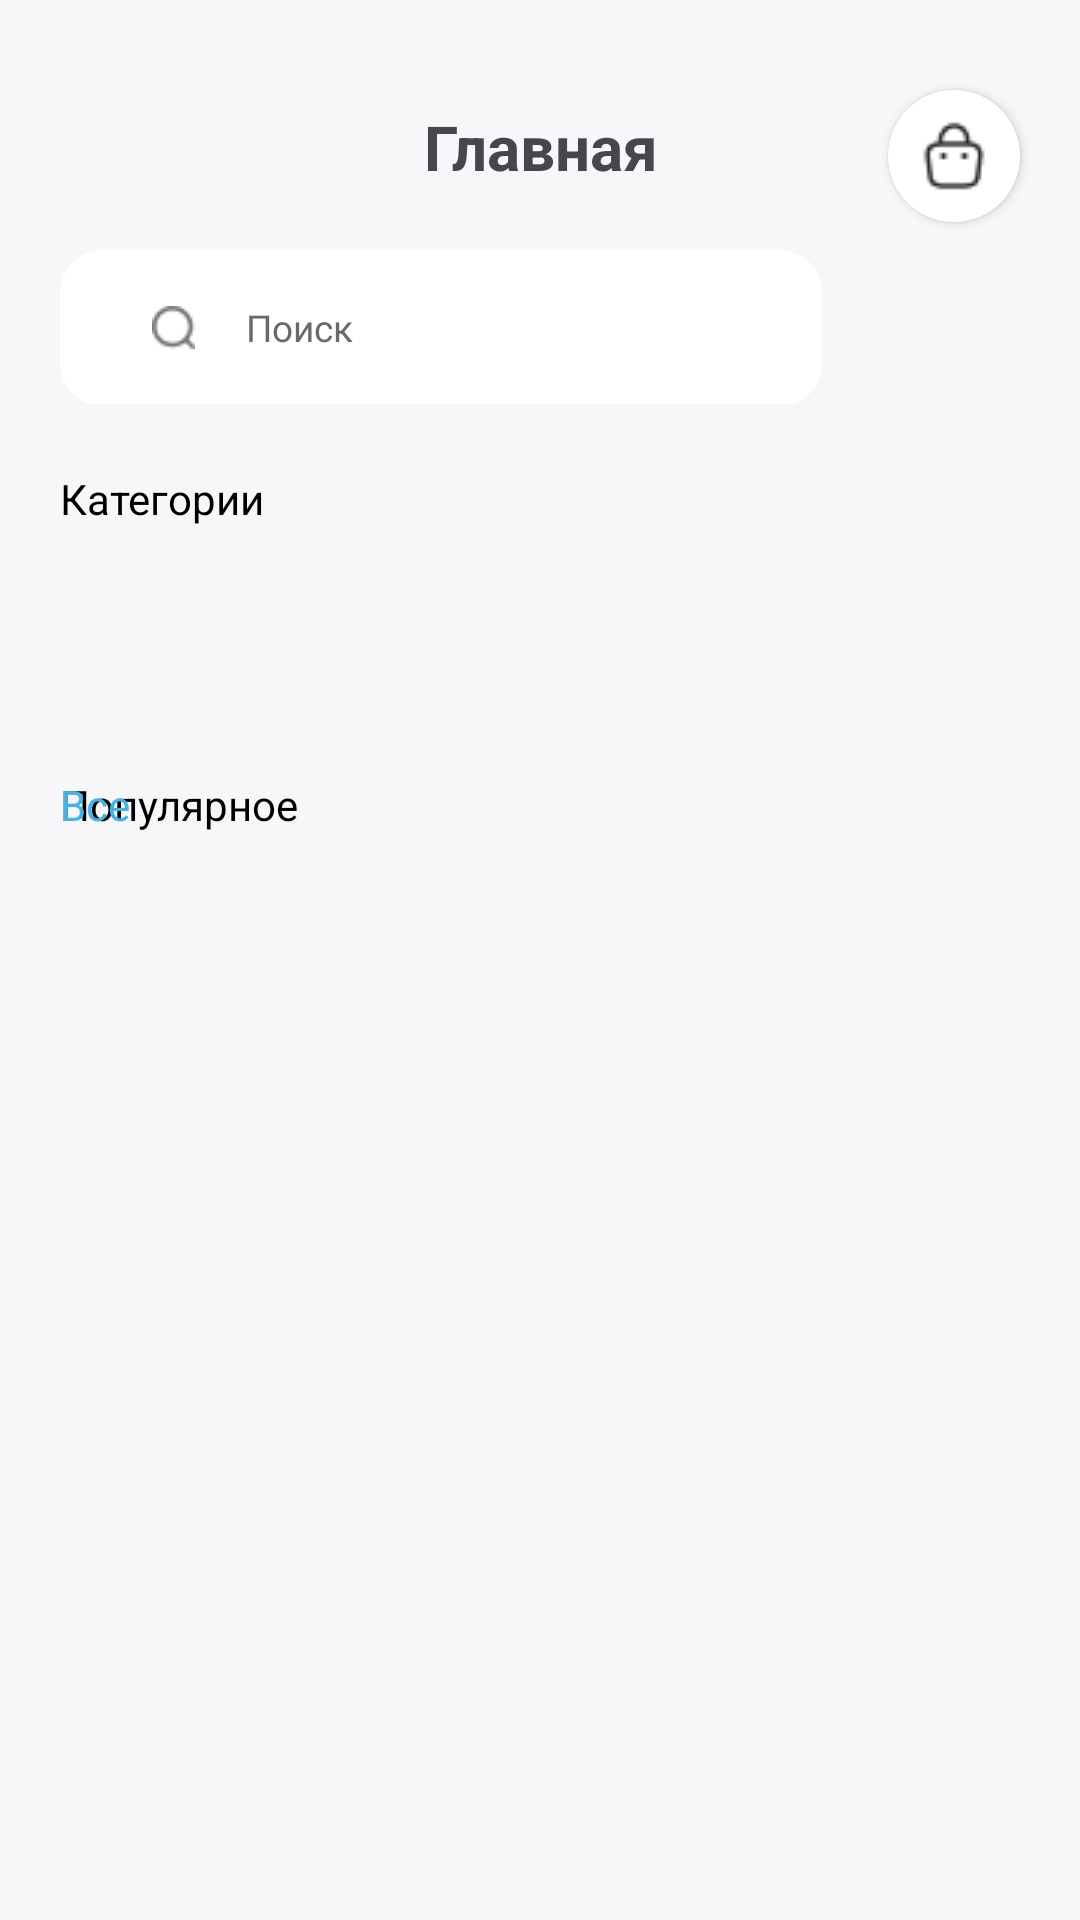

Icons on this 1080 x 1920 Android screen, each with its box as Rect(x1, y1, x2, y2):
basket: Rect(888, 90, 1020, 222)
